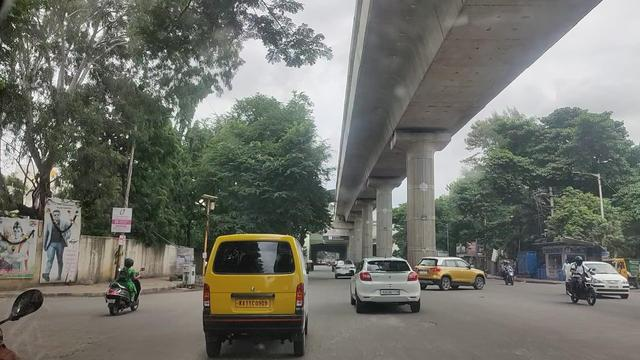LMV: (202, 235, 306, 352), (352, 258, 420, 314), (105, 258, 144, 316), (334, 259, 354, 280)
RoadDamages: (320, 319, 356, 356), (48, 335, 101, 360), (492, 345, 544, 360), (367, 312, 406, 330), (420, 317, 440, 335)
